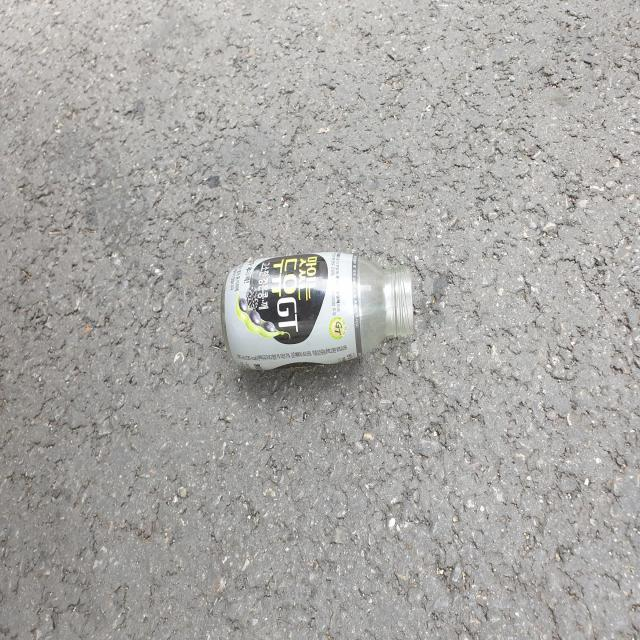glass: (221, 252, 413, 370)
